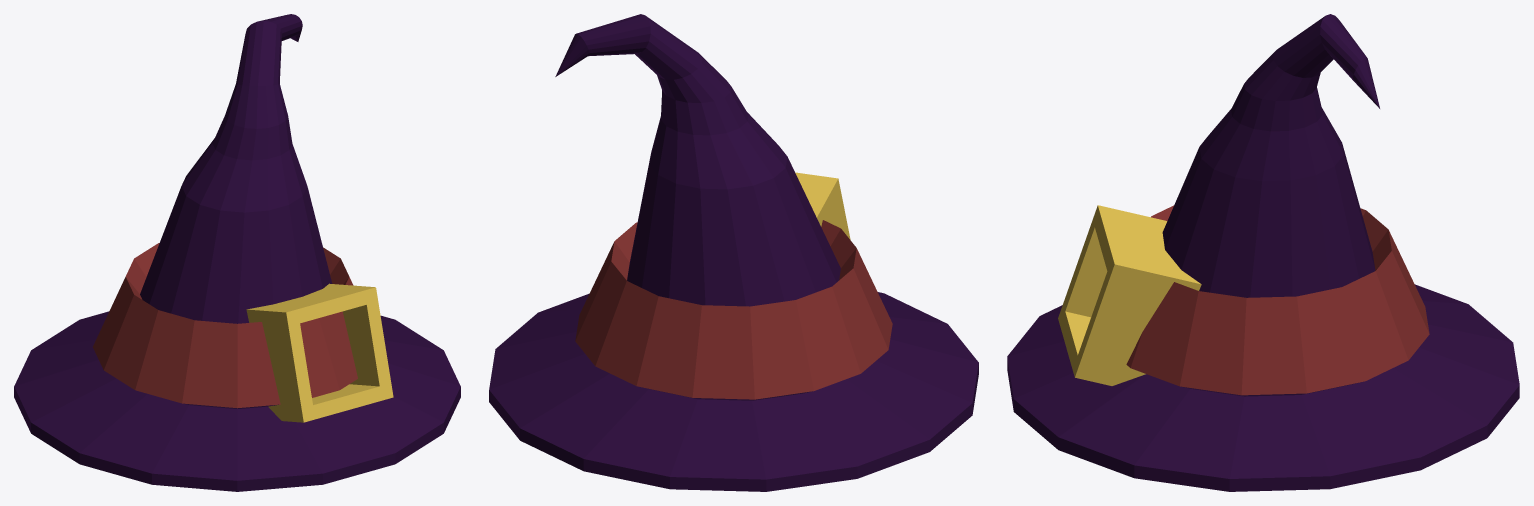
The model's file is imp_witch_hat.glb.
3 renders of one model, left to right at view 1: azimuth 30°, elevation 25°; view 2: azimuth 150°, elevation 25°; view 3: azimuth 270°, elevation 25°, orthographic. The views are drawn at different scales.
Parts seen in each view (by area): view 1: imp_witch_hat; view 2: imp_witch_hat; view 3: imp_witch_hat.
Part boxes in pixels (x1,y1,x2,y2): imp_witch_hat: [14, 14, 460, 491]; imp_witch_hat: [489, 14, 978, 491]; imp_witch_hat: [1007, 14, 1519, 491].
Size of the model in its own units: 0.875 by 0.7502 by 0.875.
